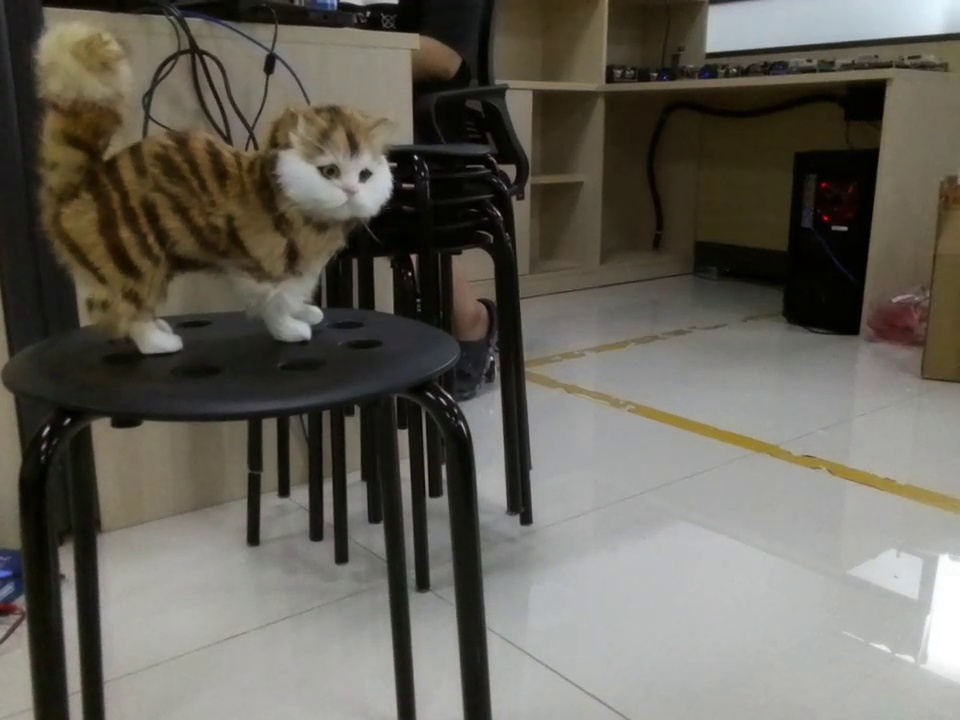cat: (20, 17, 401, 375)
